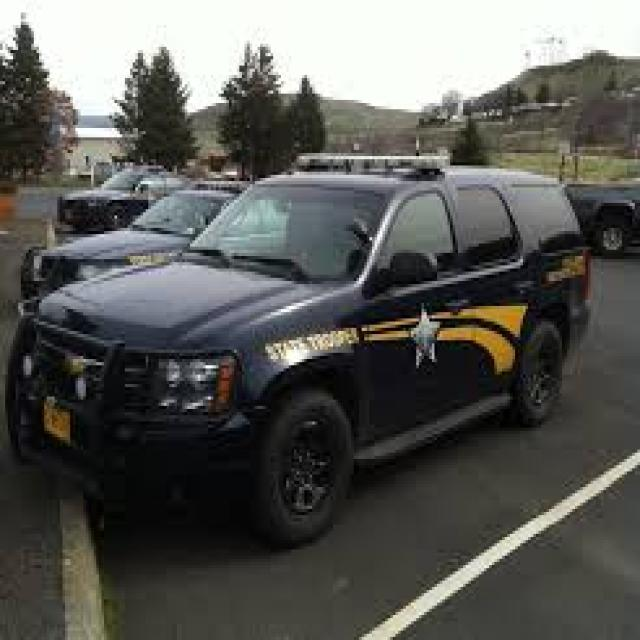cop: (9, 149, 594, 529), (61, 150, 190, 224)
